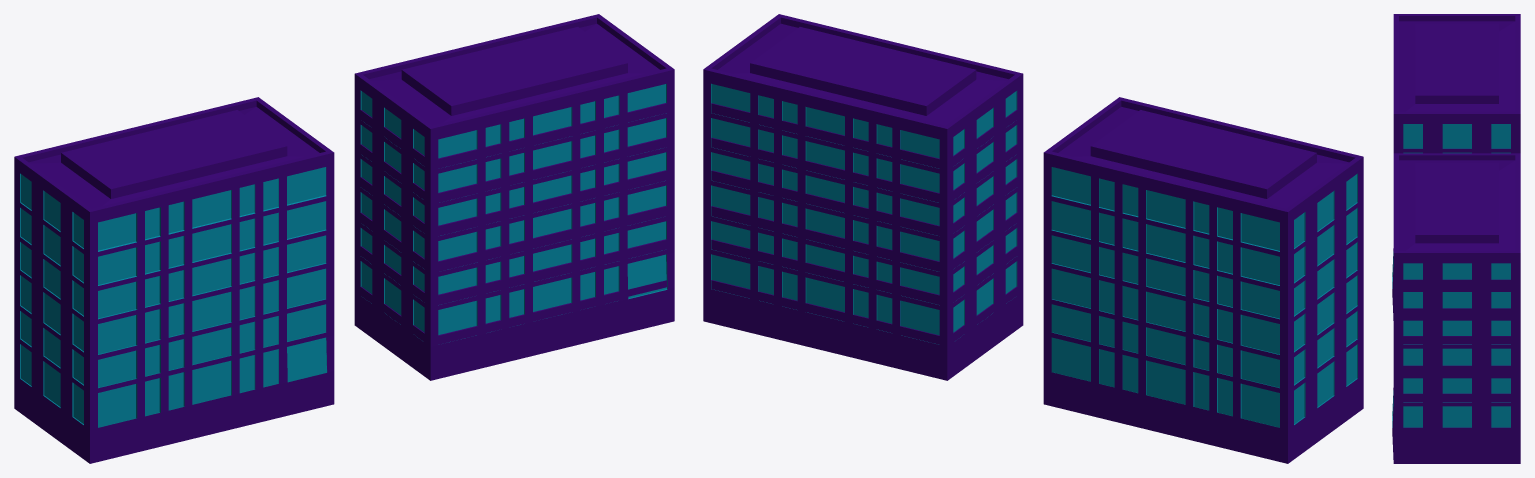
File: Toa nha.fbx
3 views of the same model, side by side, from view 1: azimuth 30°, elevation 25°; view 2: azimuth 150°, elevation 25°; view 3: azimuth 270°, elevation 25° (orthographic). The views are drawn at different scales.
Visible parts, largest first — view 1: Cube, Cube.001; view 2: Cube, Cube.001; view 3: Cube, Cube.001.
Part boxes in pixels (x1,y1,x2,y2): Cube: (354, 14, 674, 380); Cube.001: (14, 97, 334, 463); Cube: (703, 14, 1023, 380); Cube.001: (1043, 97, 1363, 463); Cube: (1392, 153, 1520, 463); Cube.001: (1392, 14, 1520, 320).
Bounding box in the file's own units: 3572 × 1499 × 811.
